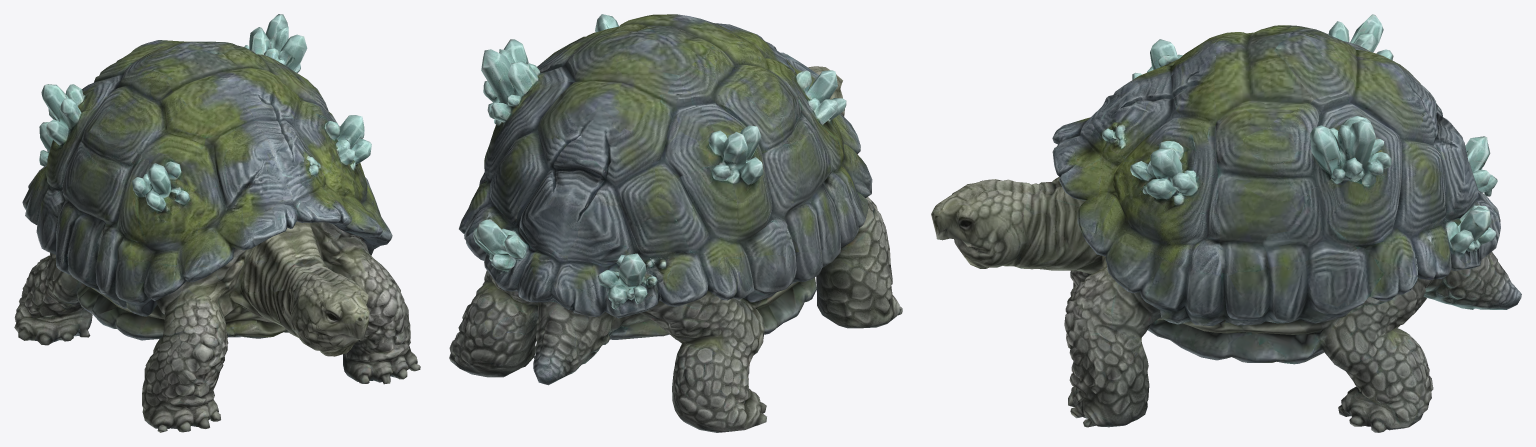
Rendered from kresh.glb.
The picture shows the model from 3 angles, left to right: view 1: azimuth 30°, elevation 25°; view 2: azimuth 150°, elevation 25°; view 3: azimuth 270°, elevation 25°; orthographic projection. The views are drawn at different scales.
Bounding box in the file's own units: 1.26 × 1.2 × 2.
Materials: 1 (1 with a texture image).
